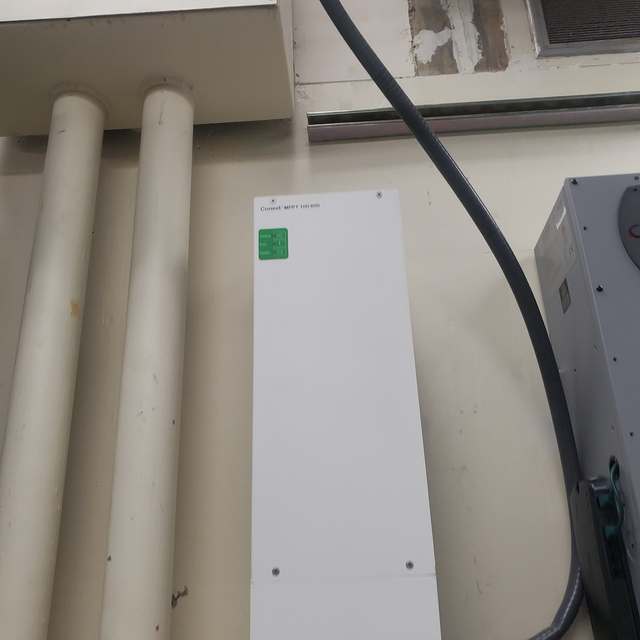charge_controller: (253, 186, 441, 640)
